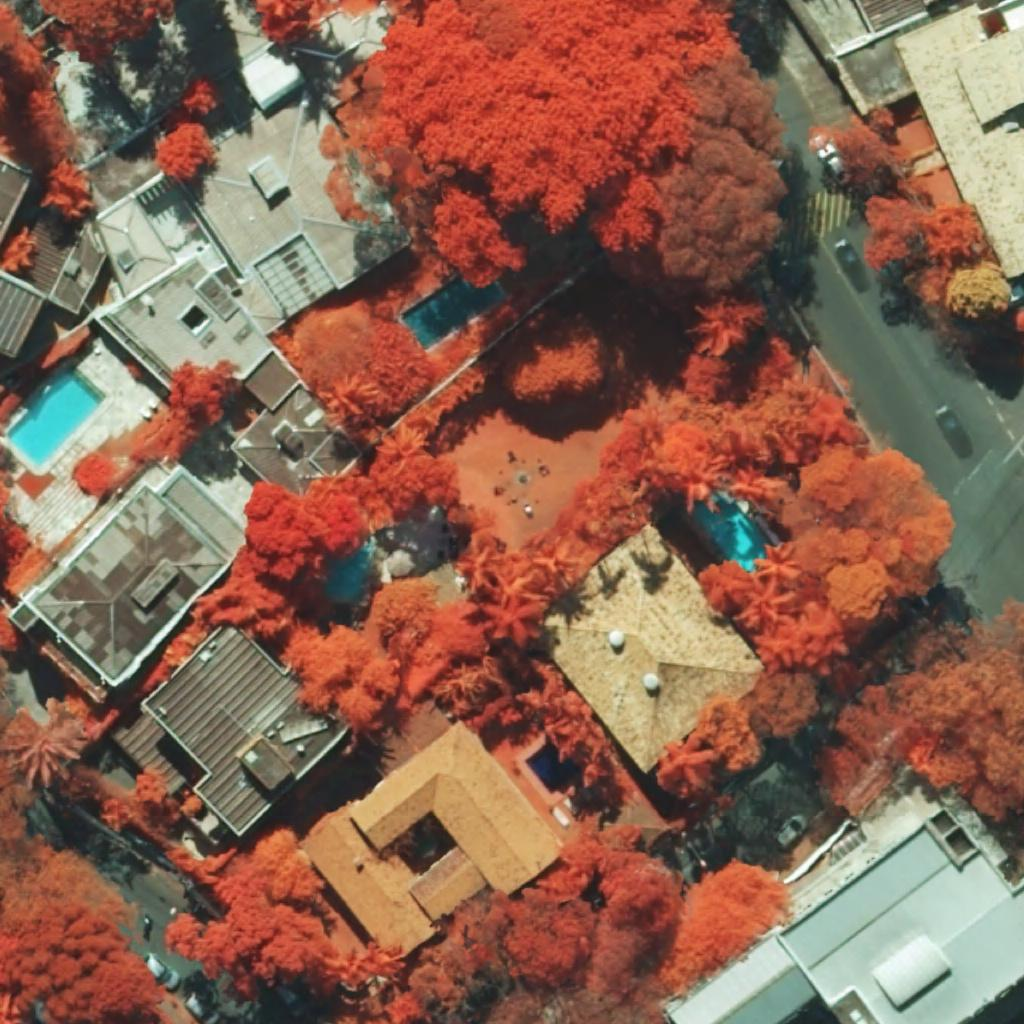pool: (8, 363, 107, 468), (400, 274, 504, 350), (693, 493, 775, 573), (525, 742, 580, 793), (326, 541, 371, 598)
